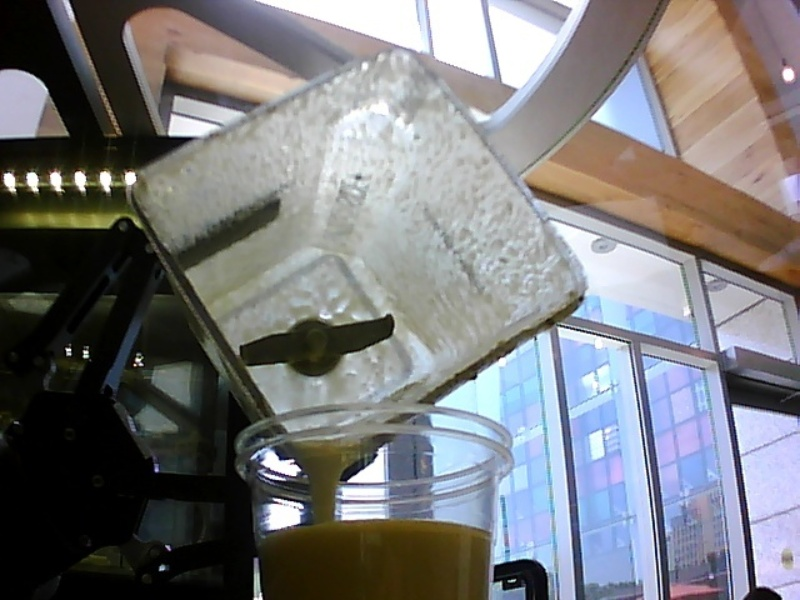cup: (221, 401, 519, 600)
limit: (255, 511, 501, 548)
